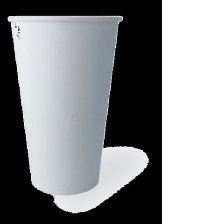paper_cup: (3, 9, 126, 199)
